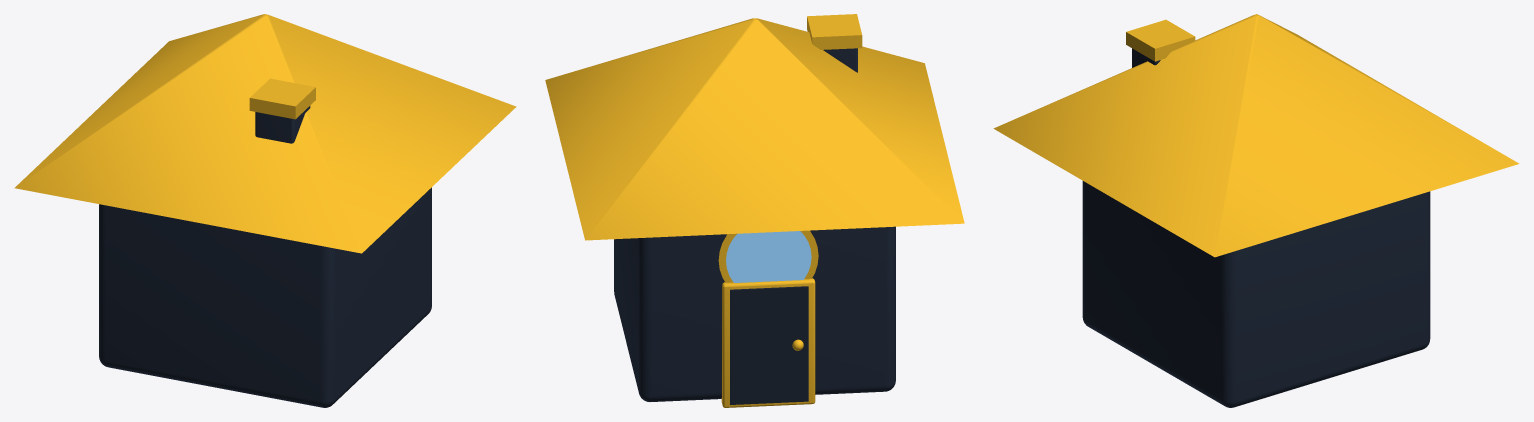
File: house-icon.glb
The picture shows the model from 3 angles, left to right: view 1: azimuth 30°, elevation 25°; view 2: azimuth 150°, elevation 25°; view 3: azimuth 270°, elevation 25°; orthographic projection.
Size of the model in its own units: 3.71 by 2.54 by 3.71.
